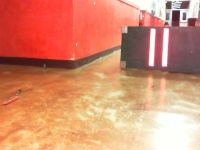switch: (161, 28, 170, 67), (148, 28, 156, 67)
